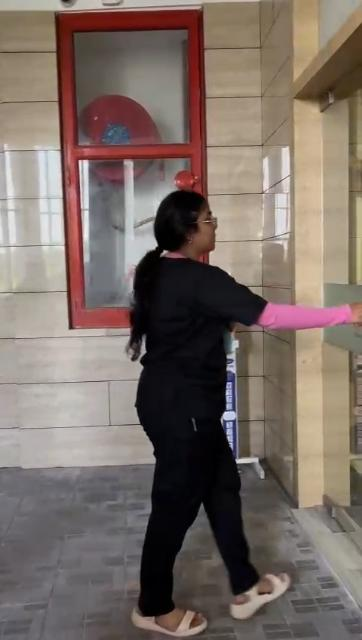floor: (0, 468, 138, 640), (243, 466, 362, 640)
moving-obj: (120, 176, 336, 640)
wall: (225, 2, 330, 270), (1, 11, 58, 461), (57, 336, 117, 466)
